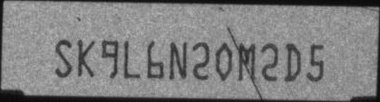2: (260, 41, 279, 82), (193, 40, 211, 81)
5: (307, 42, 326, 83)
6: (147, 38, 165, 78)
9: (102, 39, 118, 79)
D: (285, 41, 303, 82)
K: (77, 36, 96, 78)
L: (124, 39, 142, 78)
M: (238, 41, 256, 82)
N: (169, 38, 188, 80)
O: (216, 41, 233, 82)
S: (54, 38, 73, 77)
